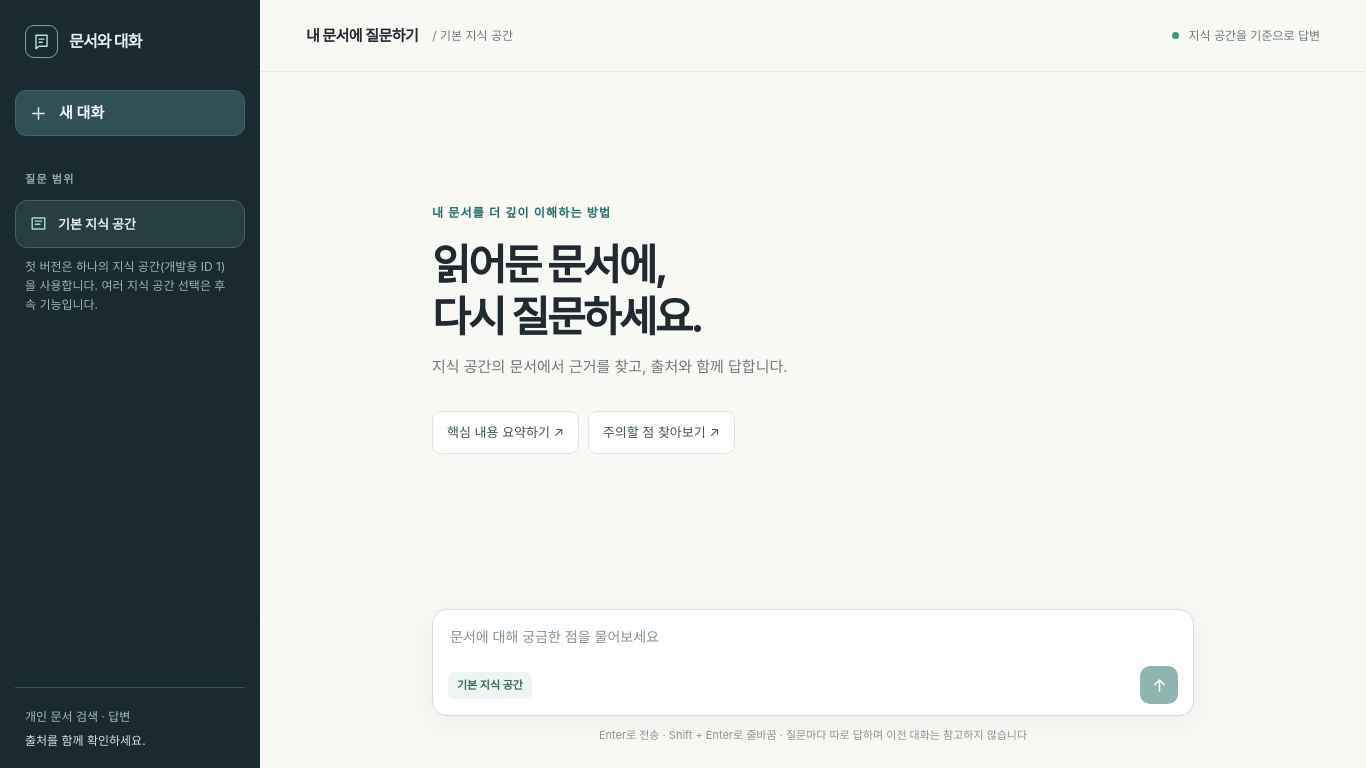
Test: 정상 응답은 실제 답변 평문(줄바꿈 보존·HTML 미해석)과 출처 표시 필드만 보여준다
The image size is (1366, 768).
(page scrolled)
In the text box named "질문 입력": x=813, y=645 [448, 624, 1178, 666], type "요약해줘"
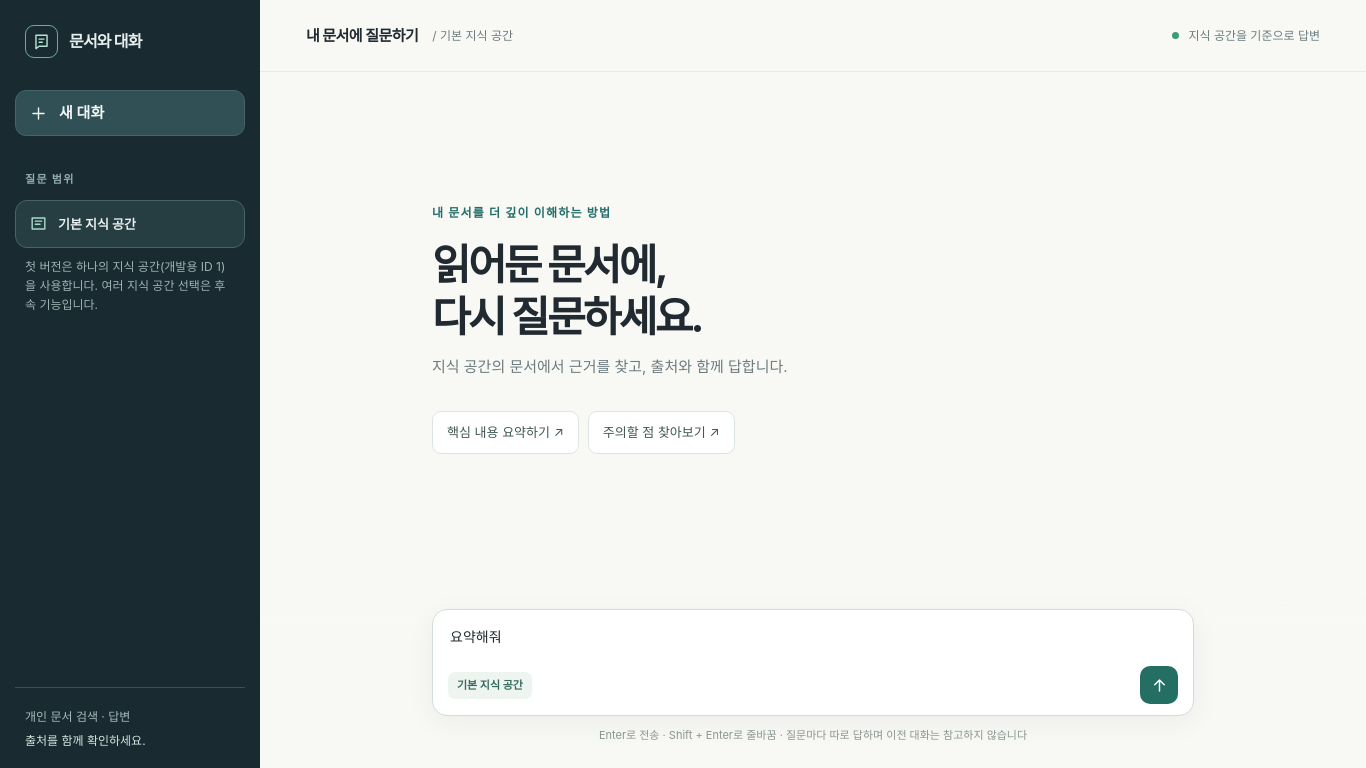
Press Enter in the text box named "질문 입력", box [448, 624, 1178, 666]
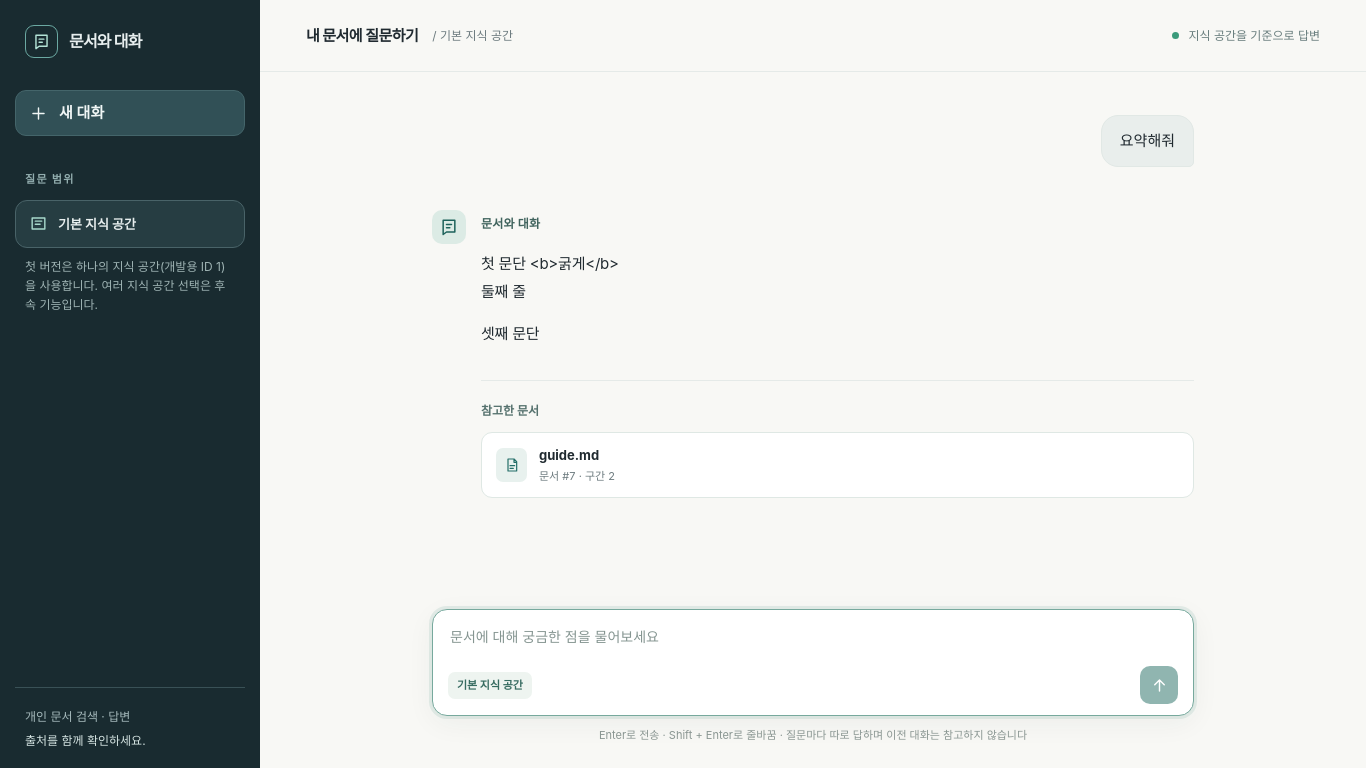
Expected: the text "셋째 문단" is shown, [481, 324, 539, 343]
Expected: the text "guide.md" is shown, [539, 447, 599, 463]
Expected: the text "문서 #7 · 구간 2" is shown, [539, 468, 615, 482]
